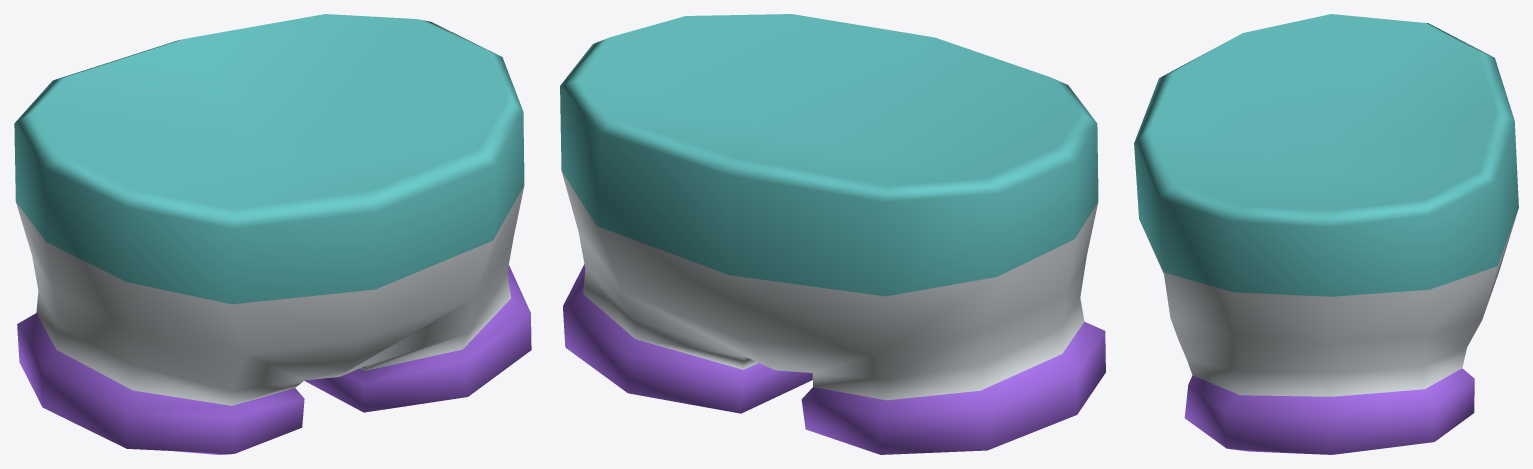
Rendered from Bottom_40.fbx.
3 renders of one model, left to right at view 1: azimuth 30°, elevation 25°; view 2: azimuth 150°, elevation 25°; view 3: azimuth 270°, elevation 25°, orthographic. The views are drawn at different scales.
Visible parts, largest first — view 1: Bottom_40; view 2: Bottom_40; view 3: Bottom_40.
Part boxes in pixels (x1,y1,x2,y2): Bottom_40: [14, 14, 531, 454]; Bottom_40: [560, 14, 1105, 454]; Bottom_40: [1134, 14, 1518, 454].
Bounding box in the file's own units: 38.94 × 22.89 × 29.68.
